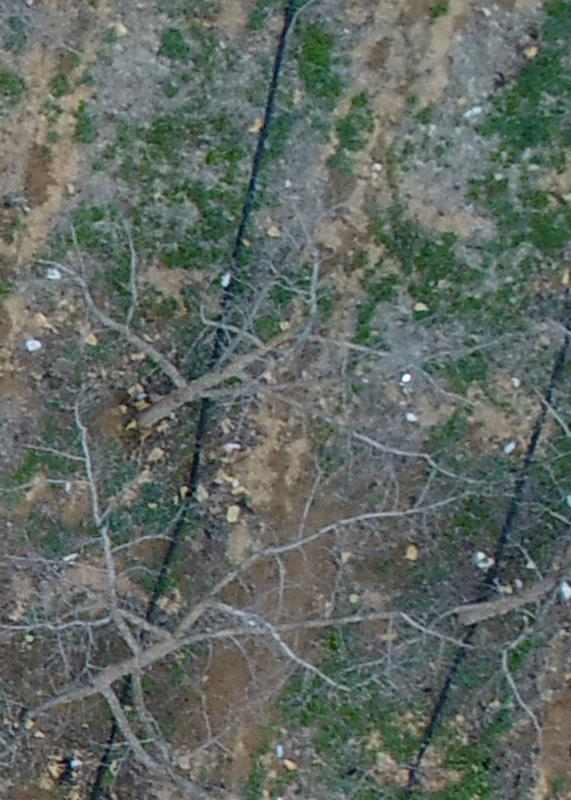apple: (10, 414, 467, 790), (35, 231, 478, 475)
